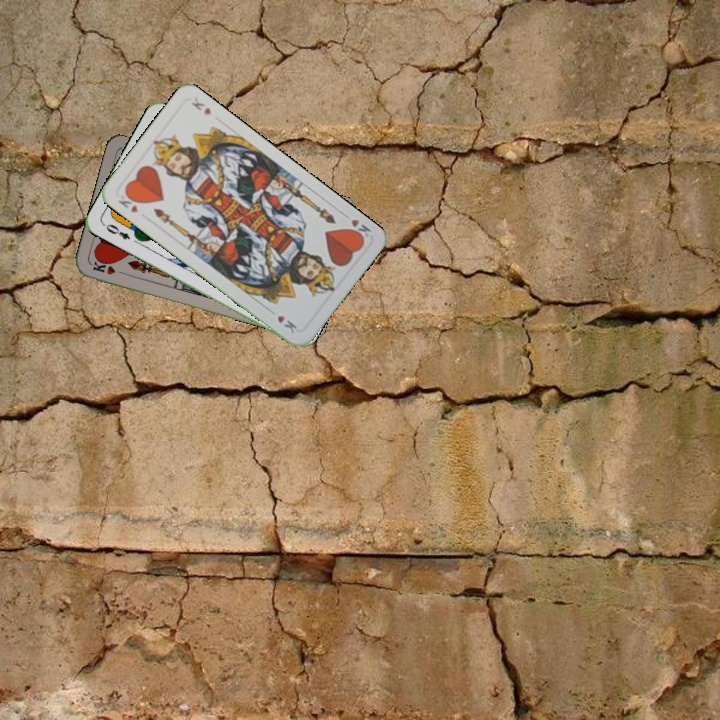EO: (99, 220, 133, 242)
HK: (338, 209, 374, 244), (89, 257, 129, 278), (114, 189, 143, 215)
